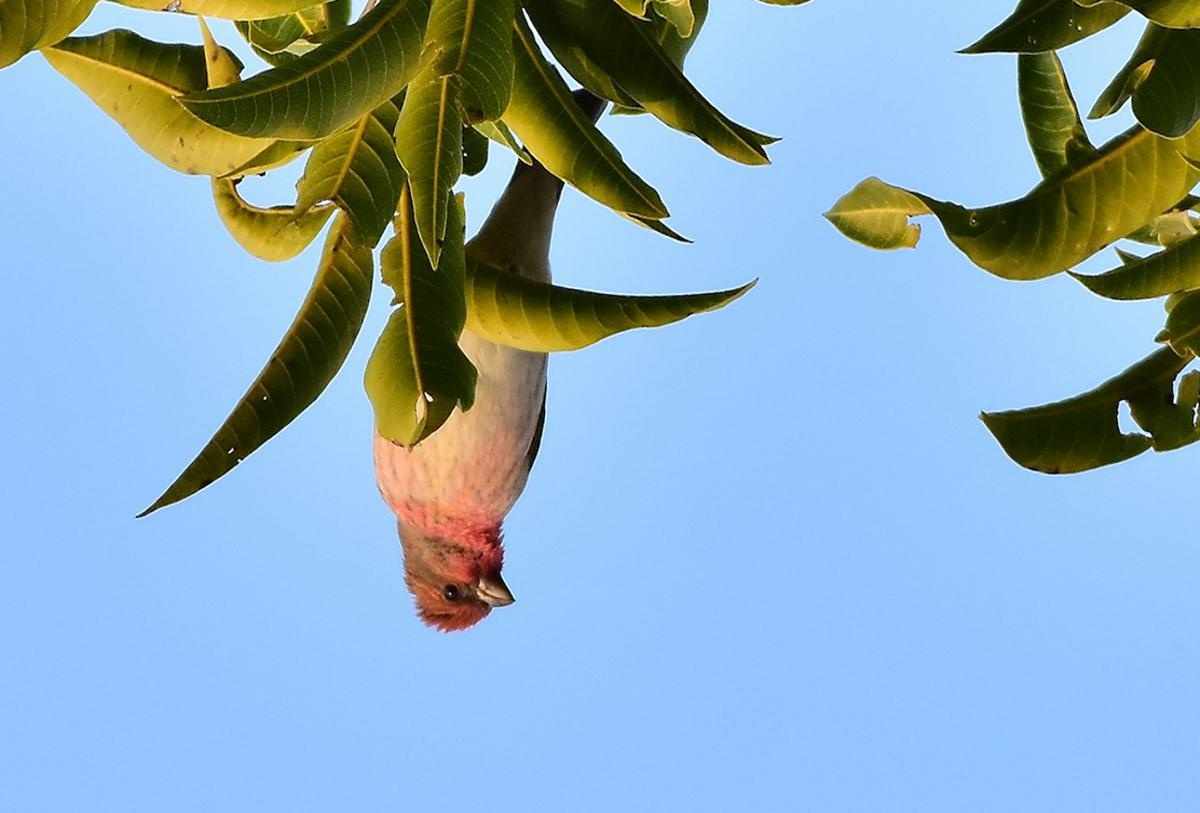rosefinch: (369, 187, 615, 662)
